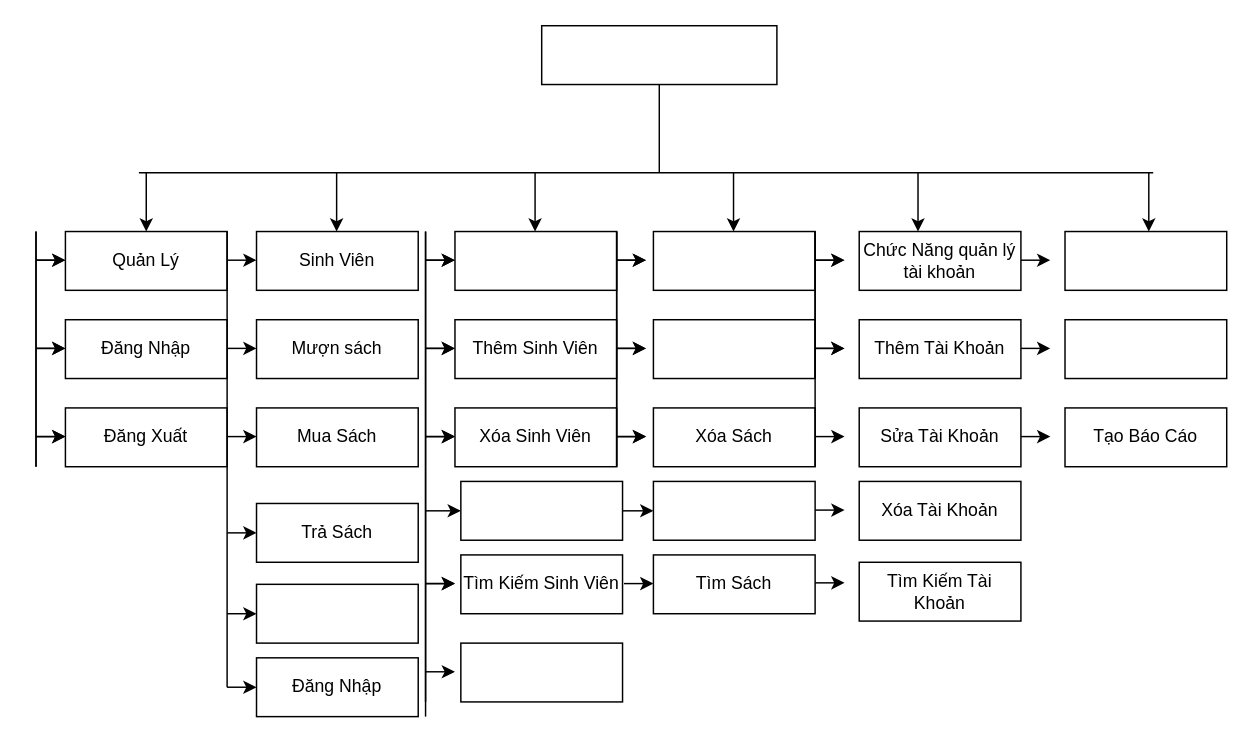
Image size: 1252x744. Some labels were removed from this diagram. Each missing label, with the centre of its shape:
Chức năng quản lý sách: the point at 733,260
Chức năng thống kê thông tin: the point at 1145,260
Ngày Mượn: the point at 541,672
Quản lý sinh viên mượn sách: the point at 535,260
Quản Lý Thư Viện: the point at 658,54
Sinh Viên Mượn Sách: the point at 1145,348
Sửa Sinh Viên: the point at 541,510
Sửa Sách: the point at 733,510
Thêm Sách: the point at 733,348
Đăng Ký: the point at 336,613
